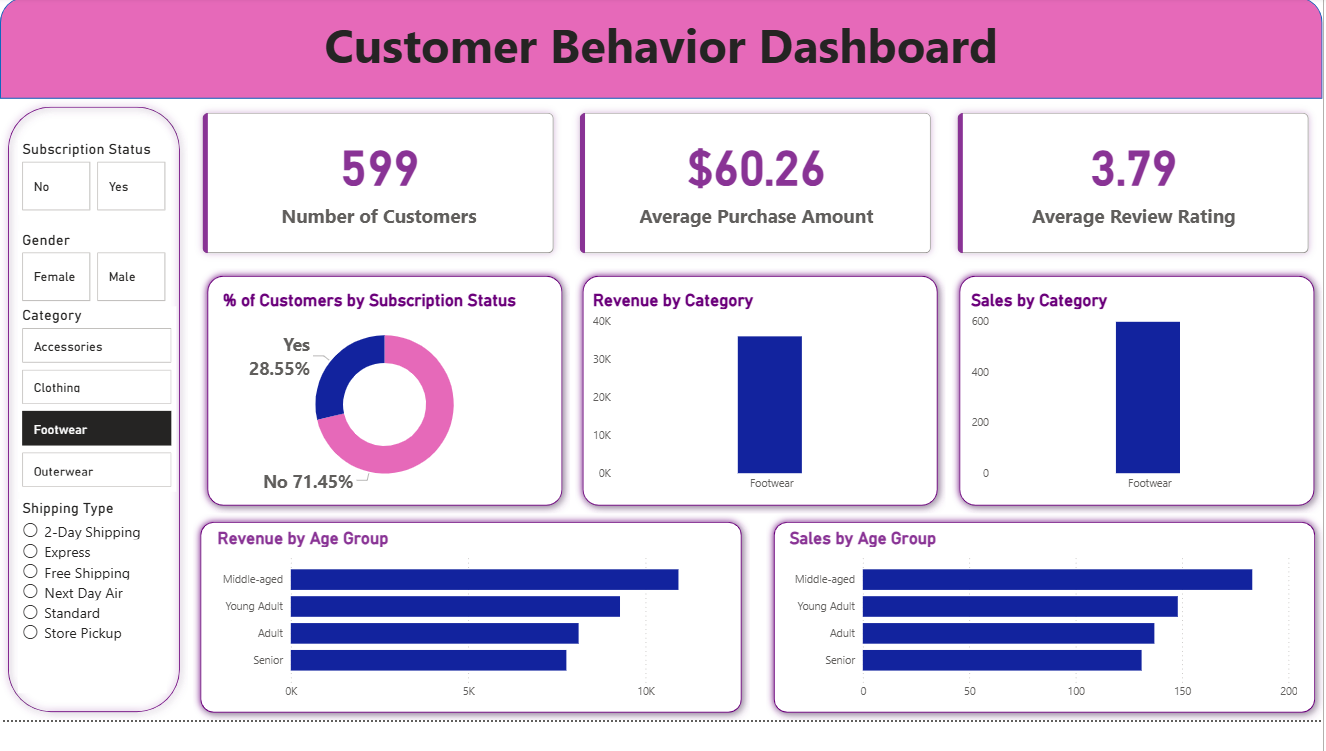

The page's visual inventory and layout, read from the dashboard file:
{"tool":"powerbi","page":{"name":"Page 1","canvas":[1500,820],"ordinal":0},"visuals":[{"type":"cardVisual","fields":{"Data":["public customer.Number of Customers","public customer.Average Purchase Amount","public customer.Average Review Rating"]},"box":[212.9,115.3,1286.5,191.6],"z":2000},{"type":"shape","box":[218.3,585.6,631.7,234.2],"z":2500,"group":"g1"},{"type":"shape","box":[0,0,1499.4,115.3],"z":3000},{"type":"textbox","box":[0,12.4,1499.4,102.9],"z":4000},{"type":"shape","box":[225.4,307,420.5,278.6],"z":5000},{"type":"donutChart","title":"% of Customers by Subscription Status","fields":{"Category":["public customer.subscription_status"],"Y":["CountNonNull(public customer.customer_id)"]},"box":[248.4,331.8,376.2,237.8],"z":6000},{"type":"shape","box":[1078.9,307,420.5,278.6],"z":7000},{"type":"shape","box":[652.1,307,420.5,278.6],"z":8000},{"type":"clusteredColumnChart","title":"Revenue by Category","fields":{"Y":["Sum(public customer.purchase_amount)"],"Category":["public customer.category"]},"box":[667.2,331.8,385.1,237.8],"z":9000},{"type":"clusteredColumnChart","title":"Sales by Category","fields":{"Y":["CountNonNull(public customer.customer_id)"],"Category":["public customer.category"]},"box":[1096.6,331.8,385.1,237.8],"z":10000},{"type":"shape","box":[0,115.3,212.9,704.5],"z":11000},{"type":"advancedSlicerVisual","fields":{"Values":["public customer.subscription_status"]},"box":[19.5,161.5,173.9,85.2],"z":12000},{"type":"advancedSlicerVisual","fields":{"Values":["public customer.gender"]},"box":[19.5,264.4,173.9,85.2],"z":13000},{"type":"advancedSlicerVisual","fields":{"Values":["public customer.category"]},"box":[20.3,350.8,179.3,210.5],"z":14000},{"type":"listSlicer","fields":{"Values":["public customer.shipping_type"]},"box":[19.5,569.6,168.6,220],"z":15000},{"type":"shape","box":[867.7,585.6,631.7,234.2],"z":16000},{"type":"clusteredBarChart","title":"Sales by Age Group","fields":{"Y":["CountNonNull(public customer.customer_id)"],"Category":["public customer.age_group"]},"box":[890.8,601.5,585.6,204.1],"z":17000},{"type":"clusteredBarChart","title":"Revenue by Age Group","fields":{"Y":["Sum(public customer.purchase_amount)"],"Category":["public customer.age_group"]},"box":[241.4,601.6,585.6,204.1],"z":17500,"group":"g1"},{"type":"group","id":"g1","title":"Group 1","box":[218.3,585.6,631.7,234.2],"z":17501}]}

Visuals, with their boxes in screenshot pixels (x1, y1, x2, y2):
cardVisual - public customer.Number of Customers x public customer.Average Purchase Amount: [189,101,1311,268]
shape: [194,511,745,715]
shape: [3,0,1311,101]
textbox: [3,11,1311,101]
shape: [200,268,567,511]
"% of Customers by Subscription Status" donutChart: [220,289,548,497]
shape: [944,268,1311,511]
shape: [572,268,939,511]
"Revenue by Category" clusteredColumnChart: [585,289,921,497]
"Sales by Category" clusteredColumnChart: [960,289,1295,497]
shape: [3,101,189,715]
advancedSlicerVisual - public customer.subscription_status: [20,141,172,215]
advancedSlicerVisual - public customer.gender: [20,231,172,305]
advancedSlicerVisual - public customer.category: [21,306,177,490]
listSlicer - public customer.shipping_type: [20,497,167,689]
shape: [760,511,1311,715]
"Sales by Age Group" clusteredBarChart: [780,525,1291,702]
"Revenue by Age Group" clusteredBarChart: [214,525,724,703]
"Group 1" group: [194,511,745,715]
